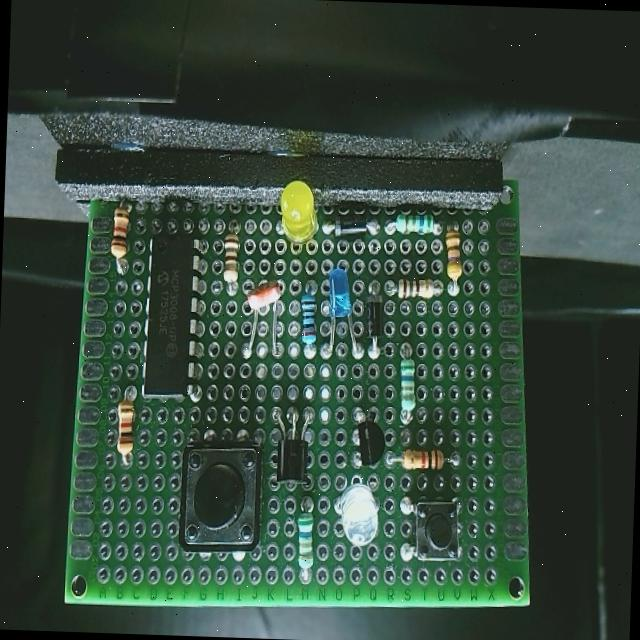IC: (134, 220, 218, 420)
cds: (242, 262, 287, 362)
diode: (358, 291, 386, 368), (334, 212, 378, 242)
led: (264, 167, 322, 246), (322, 264, 363, 360), (331, 482, 386, 548)
resistor: (392, 440, 460, 484), (386, 200, 446, 248), (390, 355, 422, 422), (288, 506, 320, 570), (384, 276, 446, 308), (108, 205, 138, 271), (296, 287, 324, 353), (216, 226, 244, 292), (108, 396, 136, 460), (444, 230, 466, 292)
switch: (168, 428, 266, 548), (401, 506, 462, 565)
transistor: (269, 412, 311, 487), (349, 406, 389, 479)
